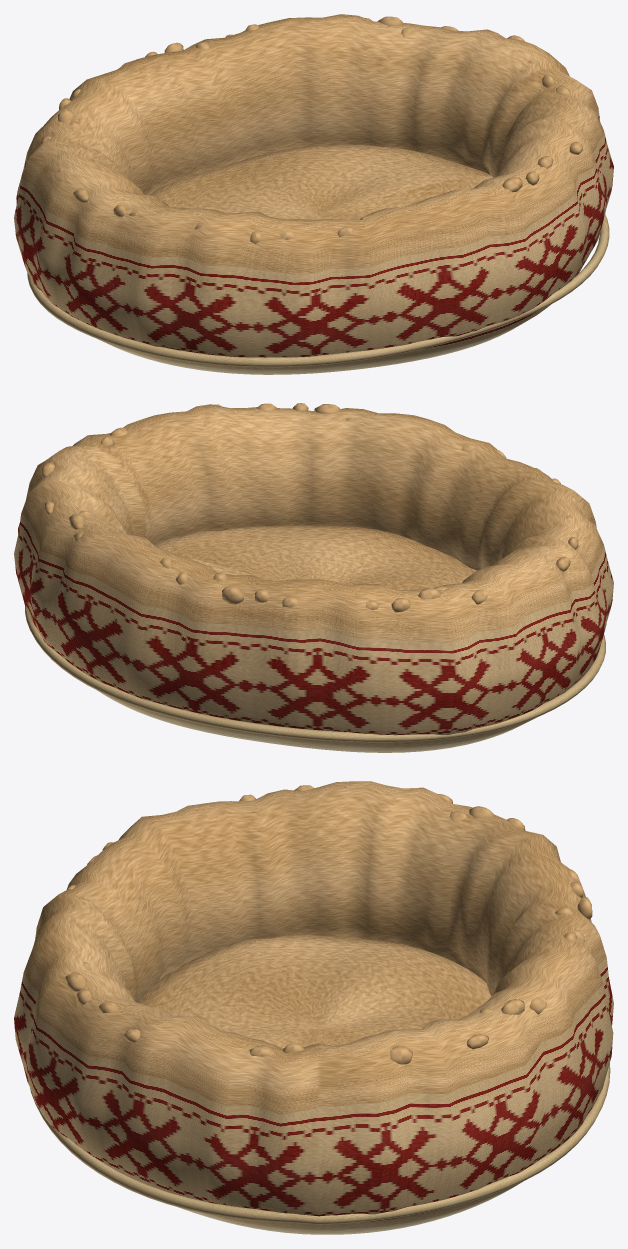
File: fleece-bed.glb
3 renders of one model, top to bottom at view 1: azimuth 30°, elevation 25°; view 2: azimuth 150°, elevation 25°; view 3: azimuth 270°, elevation 25°, orthographic. The views are drawn at different scales.
Parts seen in each view (by area): view 1: Shaped ring and inset seat, Fleece mattress upholstery, Bottom rolled cord, Scattered fleece locks; view 2: Shaped ring and inset seat, Fleece mattress upholstery, Bottom rolled cord, Scattered fleece locks; view 3: Shaped ring and inset seat, Fleece mattress upholstery, Bottom rolled cord, Scattered fleece locks.
Part boxes in pixels (x1,y1,x2,y2): Shaped ring and inset seat: [14, 14, 613, 374]; Fleece mattress upholstery: [149, 144, 492, 219]; Bottom rolled cord: [27, 214, 609, 367]; Scattered fleece locks: [41, 16, 582, 243]; Shaped ring and inset seat: [14, 404, 613, 752]; Fleece mattress upholstery: [154, 525, 477, 590]; Bottom rolled cord: [25, 606, 605, 742]; Scattered fleece locks: [42, 403, 578, 612]; Shaped ring and inset seat: [14, 781, 613, 1234]; Fleece mattress upholstery: [139, 935, 491, 1048]; Bottom rolled cord: [30, 1063, 610, 1224]; Scattered fleece locks: [65, 785, 592, 1064].
Size of the model in its own units: 0.8044 by 0.2432 by 0.6578.
4 materials, 4 textured.
